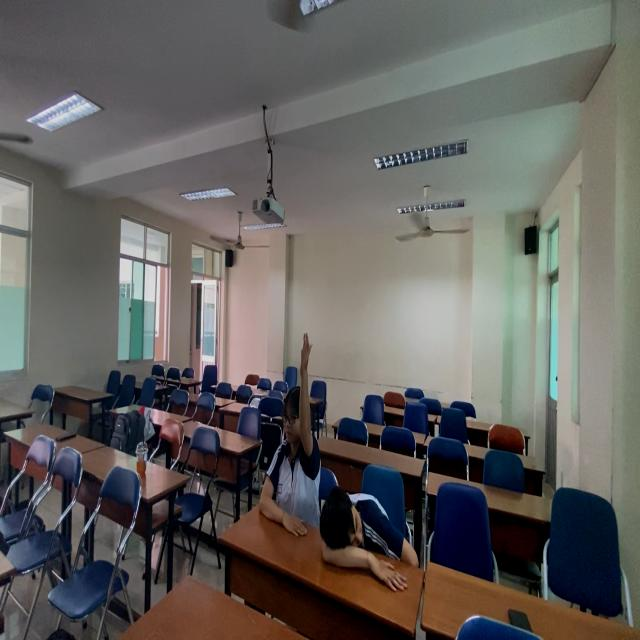raise_hand: (256, 329, 319, 540)
sleep: (319, 485, 422, 586)
